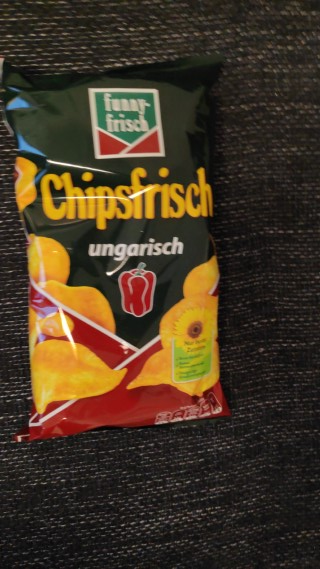chipsfrisch: (1, 50, 232, 447)
